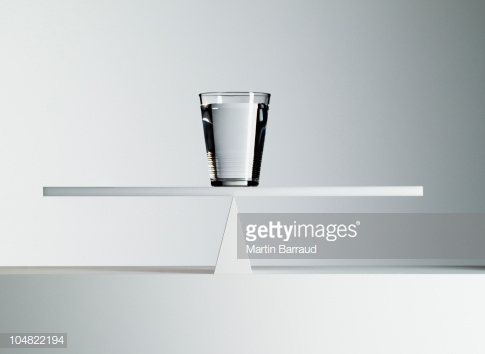glass of water: (203, 90, 263, 183)
